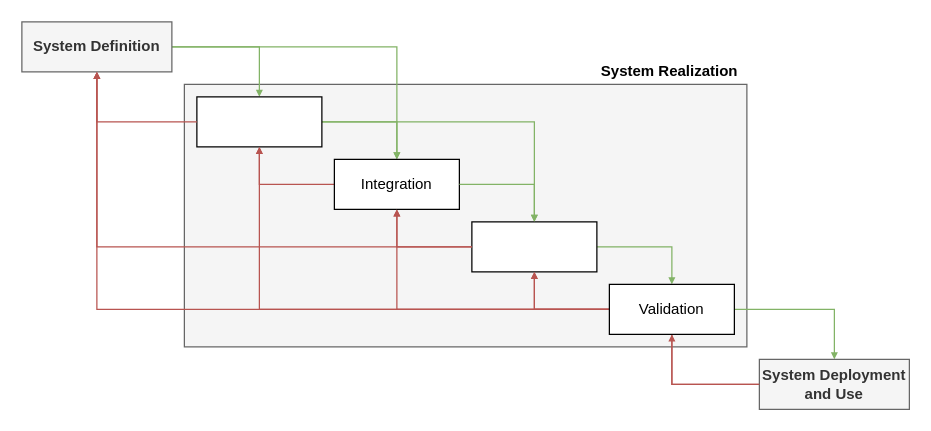
The diagram is 931 pixels wide and 431 high, and some of its shapes have lost their labels. Each missing label, with the centre of its shape:
"Implementation" goes at pixel 259 121.
"Verification" goes at pixel 534 246.
